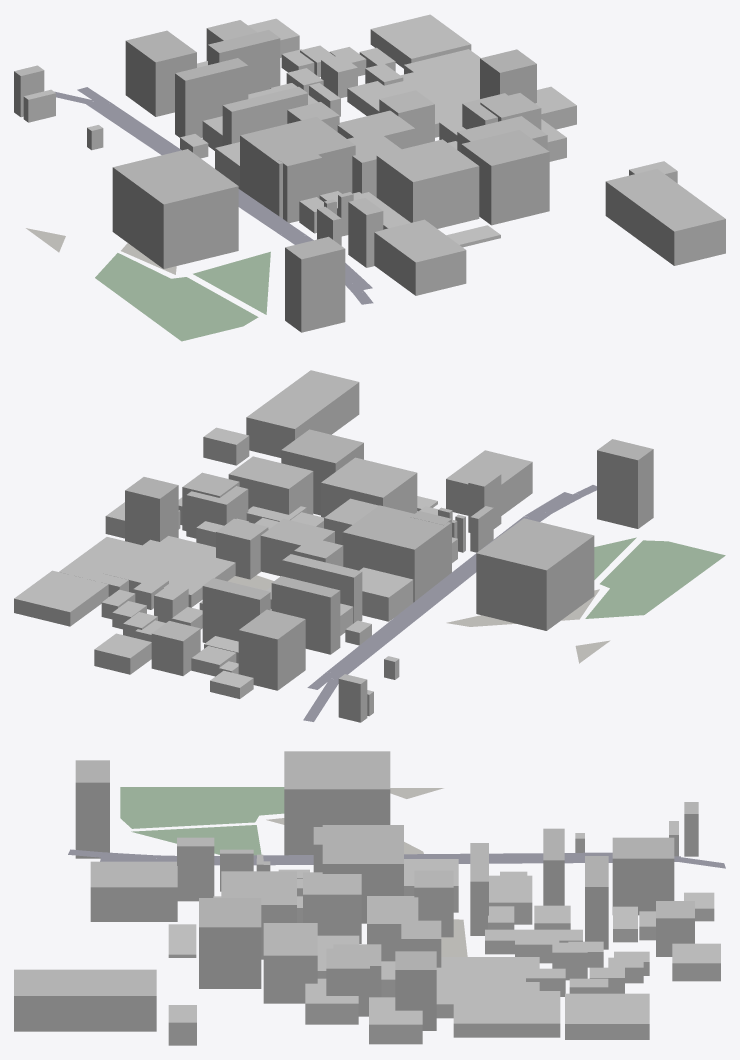
The model's file is 133_103_mid.glb.
3 renders of one model, top to bottom at view 1: azimuth 30°, elevation 25°; view 2: azimuth 150°, elevation 25°; view 3: azimuth 270°, elevation 25°, orthographic. The views are drawn at different scales.
Size of the model in its own units: 504 by 69.79 by 576.
